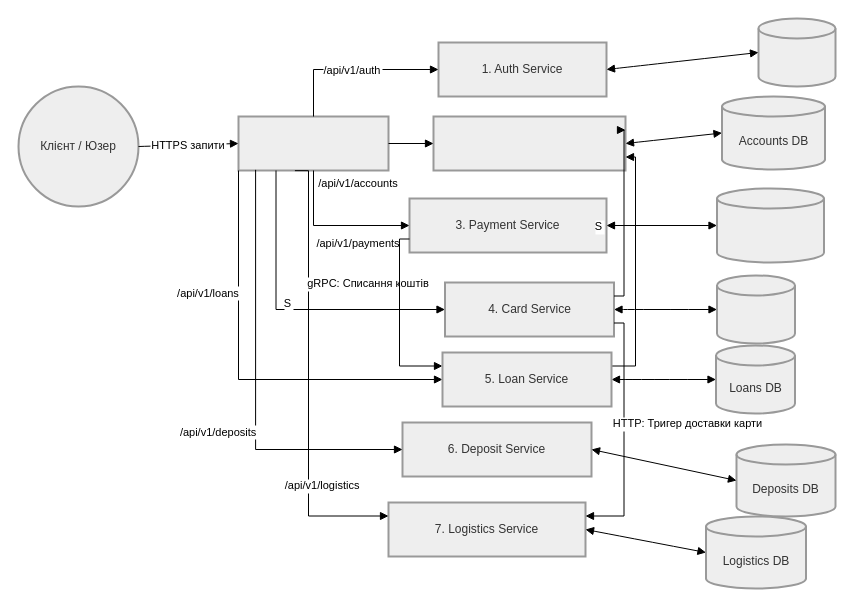
Some shapes in this 853 by 606 pixel diagram are drawn without their labels. Here are the shapes that lost their labels. From the top down, the centre of each, then its label:
At pixel 796 52: "Users DB".
At pixel 313 143: "API Gateway".
At pixel 529 143: "2. Account Service".
At pixel 770 225: "Payments DB".
At pixel 756 309: "Cards DB".
